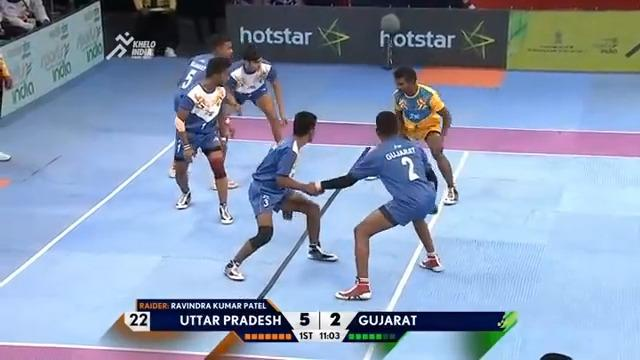Player: (280, 110, 445, 300), (221, 109, 339, 282), (168, 32, 237, 184), (220, 44, 288, 144)
Raider: (388, 64, 460, 205)
referee: (0, 53, 13, 161)
